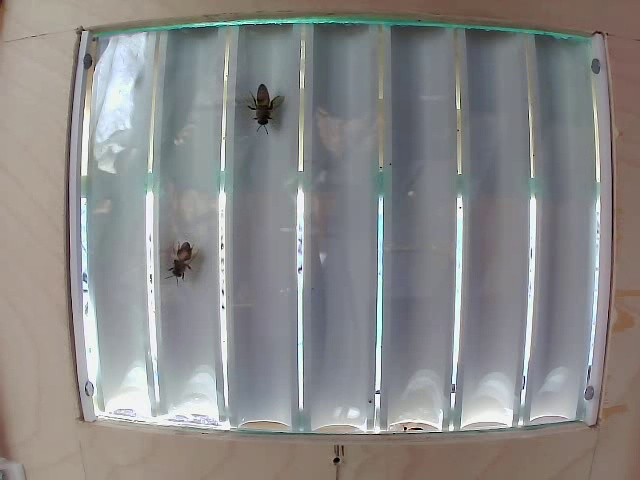bee: (246, 76, 288, 136), (160, 232, 198, 280)
